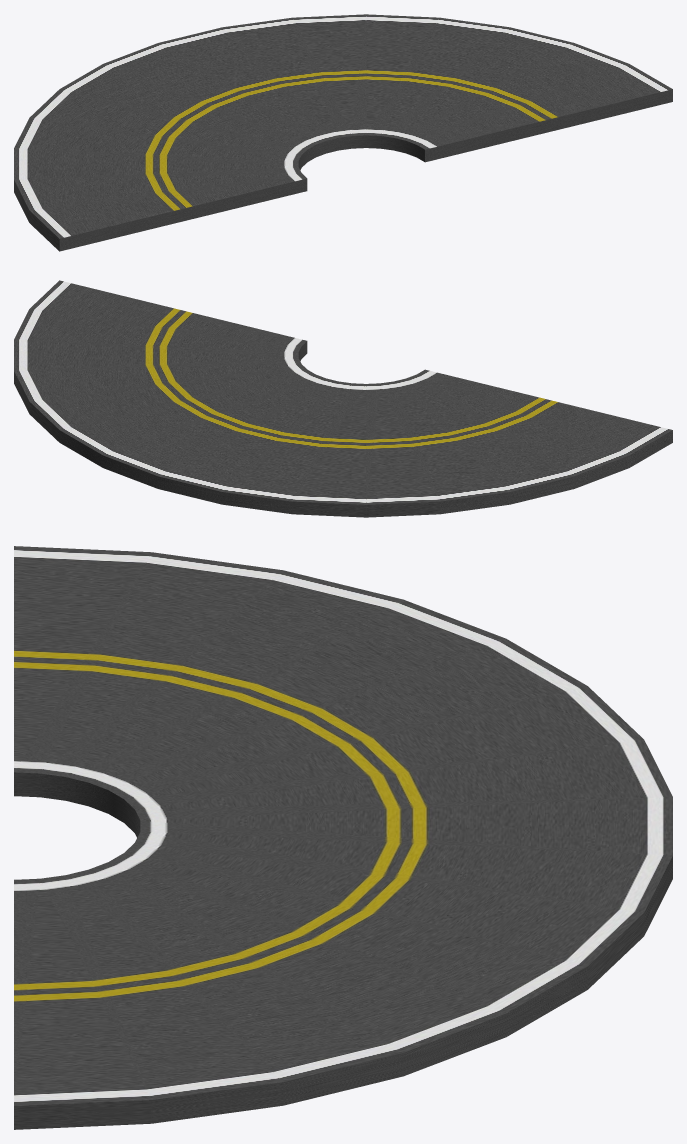
The model's file is semi_circle_track.fbx.
3 renders of one model, top to bottom at view 1: azimuth 30°, elevation 25°; view 2: azimuth 150°, elevation 25°; view 3: azimuth 270°, elevation 25°, orthographic. The views are drawn at different scales.
Parts seen in each view (by area): view 1: pCube1; view 2: pCube1; view 3: pCube1.
Part boxes in pixels (bbox=[...]): pCube1: bbox=[14, 14, 672, 251]; pCube1: bbox=[14, 280, 672, 517]; pCube1: bbox=[14, 546, 672, 1129].
Size of the model in its own units: 1329 by 26.26 by 661.
1 material, 1 textured.
